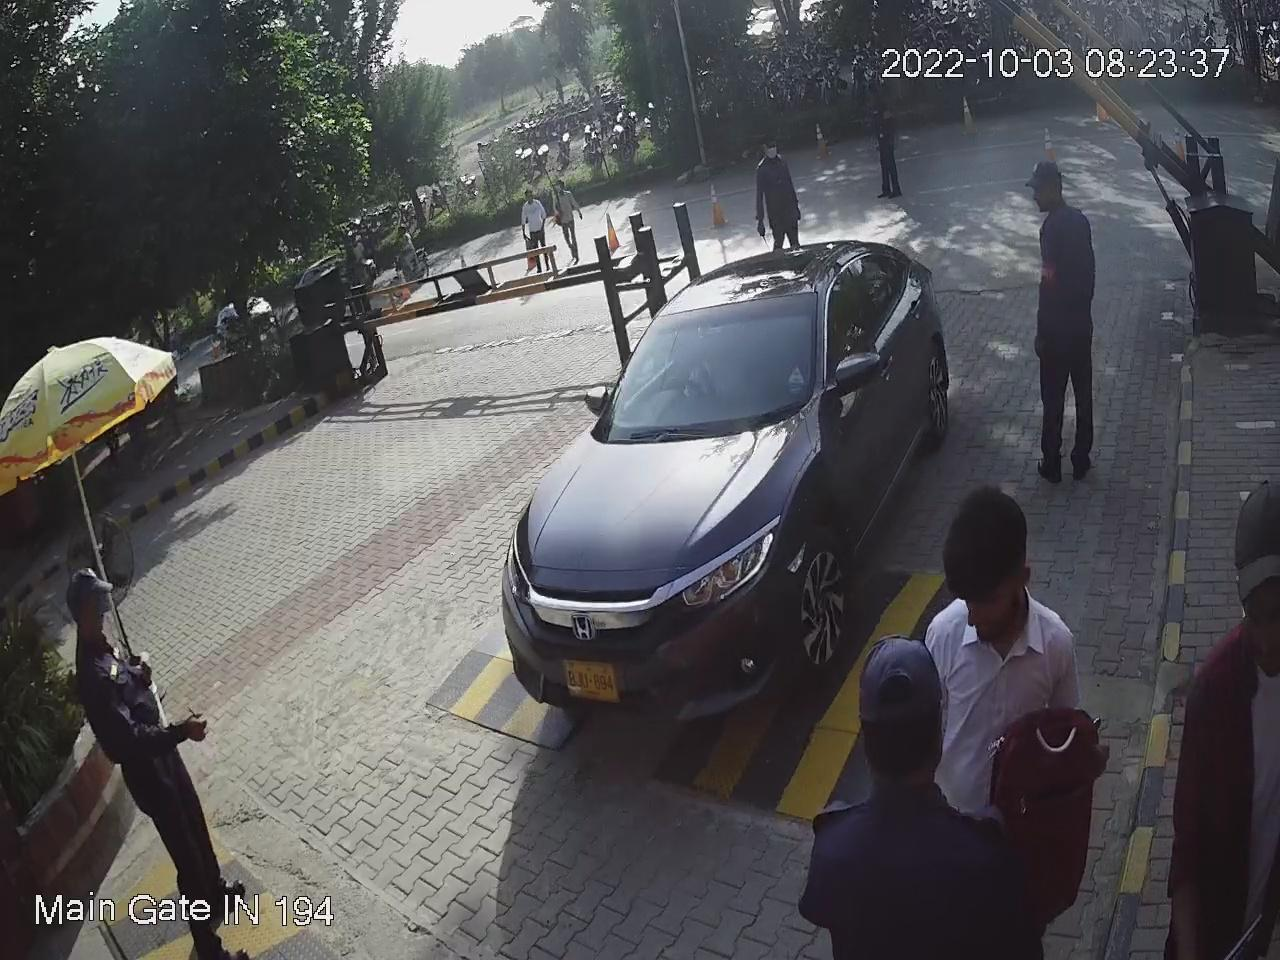windshield: (606, 287, 820, 435)
